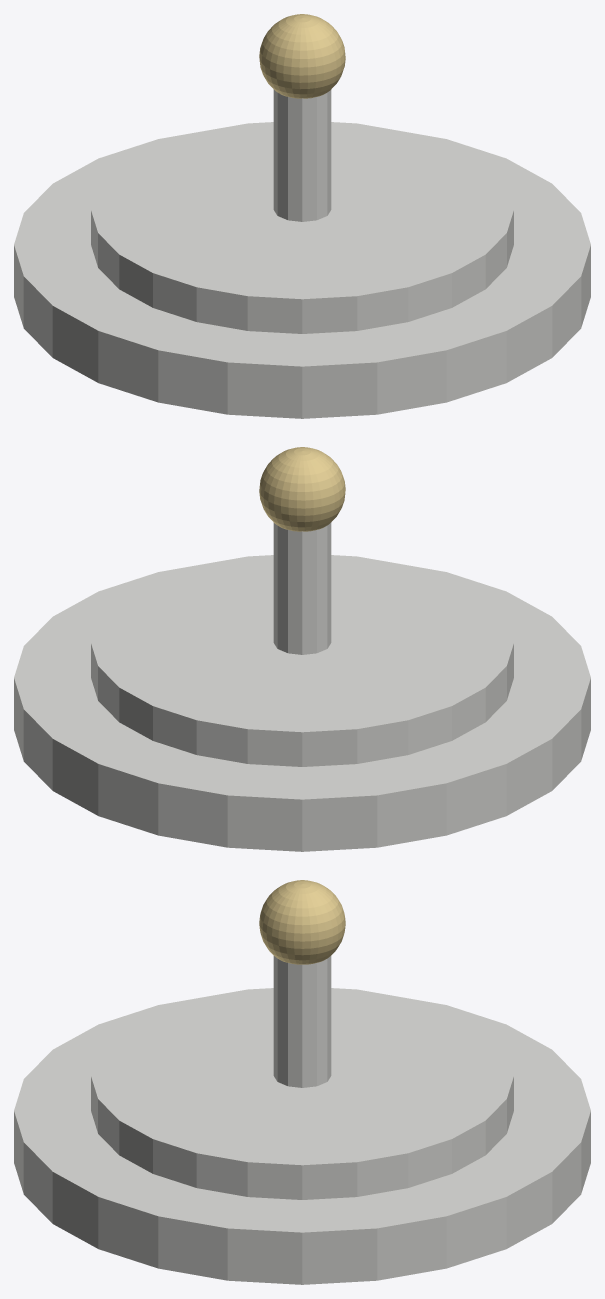
Rendered from Plaza.glb.
The picture shows the model from 3 angles, top to bottom: view 1: azimuth 30°, elevation 25°; view 2: azimuth 150°, elevation 25°; view 3: azimuth 270°, elevation 25°; orthographic projection.
Visible parts, largest first — view 1: nervix_fountain_bowl, nervix_fountain_base, nervix_fountain_column, nervix_fountain_top; view 2: nervix_fountain_bowl, nervix_fountain_base, nervix_fountain_column, nervix_fountain_top; view 3: nervix_fountain_bowl, nervix_fountain_base, nervix_fountain_column, nervix_fountain_top.
Part boxes in pixels (x1,y1,x2,y2): nervix_fountain_bowl: (91, 122, 513, 333); nervix_fountain_base: (14, 132, 590, 418); nervix_fountain_column: (273, 89, 331, 221); nervix_fountain_top: (259, 14, 345, 98); nervix_fountain_bowl: (91, 555, 513, 766); nervix_fountain_base: (14, 565, 590, 851); nervix_fountain_column: (273, 522, 331, 654); nervix_fountain_top: (259, 447, 345, 531); nervix_fountain_bowl: (91, 988, 513, 1199); nervix_fountain_base: (14, 998, 590, 1284); nervix_fountain_column: (273, 956, 331, 1087); nervix_fountain_top: (259, 880, 345, 964).
Size of what is drawn, in the model's own units: 6 by 3.2 by 6.
